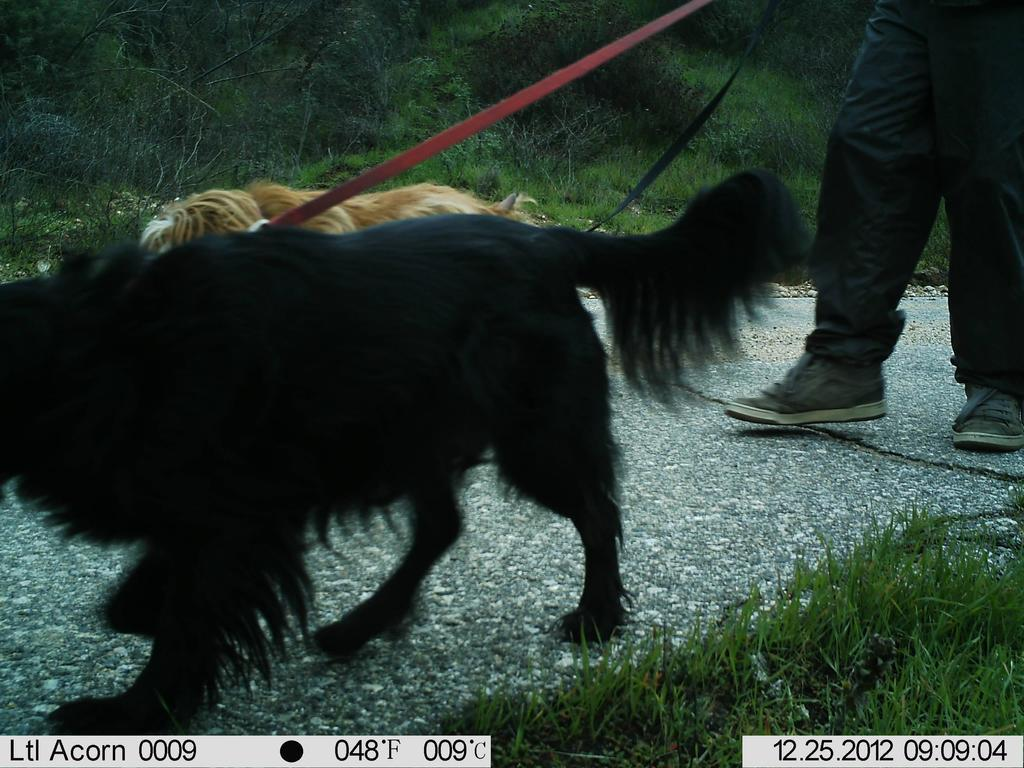dog: (4, 165, 818, 740)
